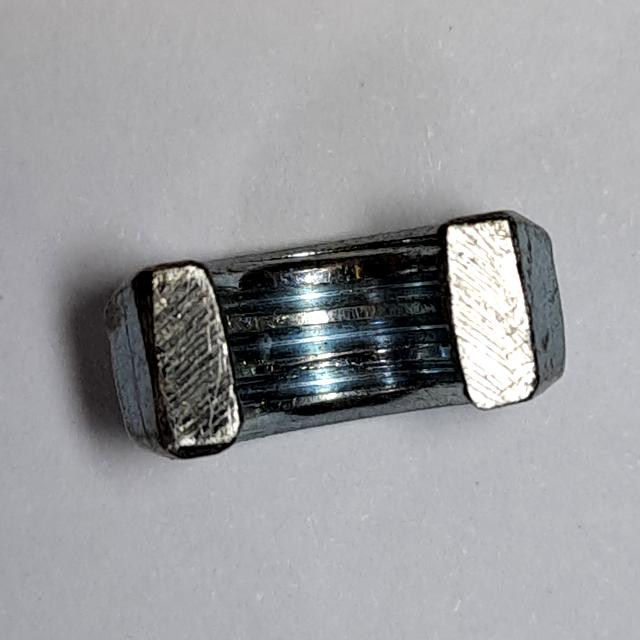Side-Fracture: (96, 181, 591, 488)
